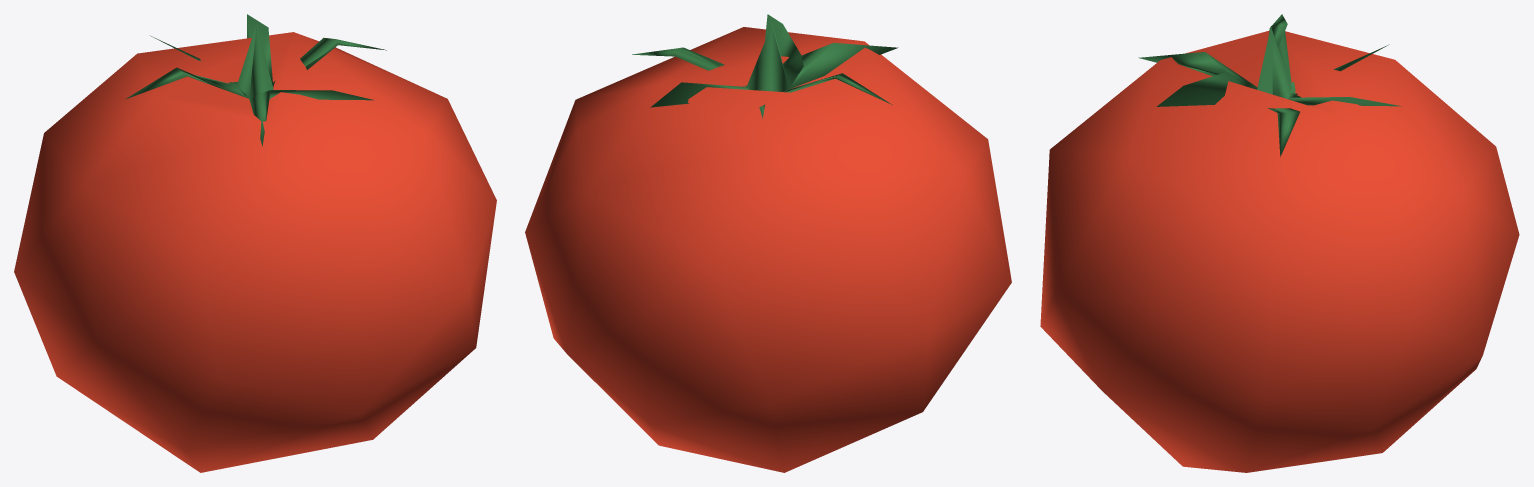
The model's file is tomato.fbx.
3 views of the same model, side by side, from view 1: azimuth 30°, elevation 25°; view 2: azimuth 150°, elevation 25°; view 3: azimuth 270°, elevation 25° (orthographic).
Parts seen in each view (by area): view 1: tomato; view 2: tomato; view 3: tomato.
Boxes of the visible parts, <box> form: tomato: <box>14,14,496,472</box>; tomato: <box>525,14,1011,472</box>; tomato: <box>1040,14,1519,472</box>.
Bounding box in the file's own units: 111 × 110 × 111.
